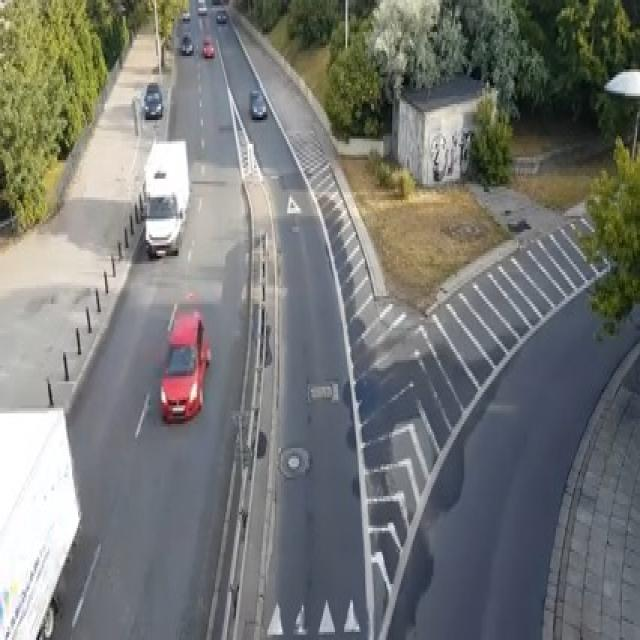bus: (0, 403, 81, 637), (142, 136, 190, 256)
car: (160, 301, 210, 424), (144, 189, 182, 256), (142, 83, 164, 117), (249, 88, 266, 117), (180, 32, 194, 53), (202, 37, 214, 56), (215, 8, 227, 21), (197, 0, 206, 13), (182, 11, 189, 21), (210, 0, 221, 3)
